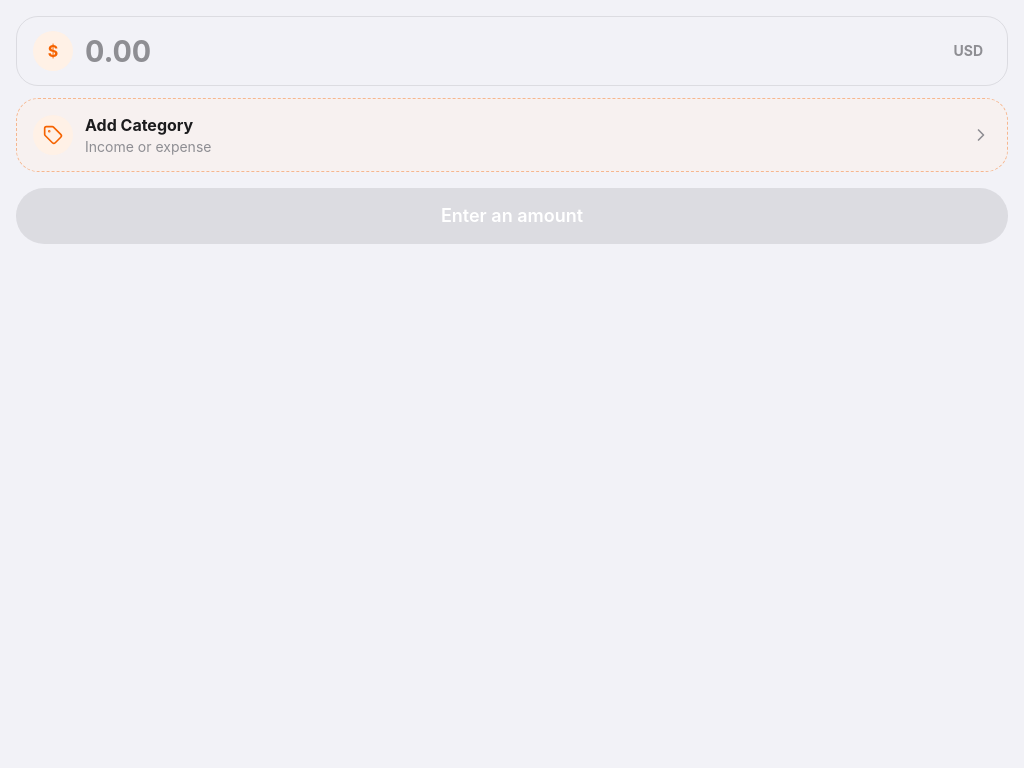
it: AddComposer (add mode) › switches to LBP and shows the USD estimate plus grouped label
The image size is (1024, 768).
Click the button with aria-label "Switch currency": point(968, 51) [946,37,991,65]
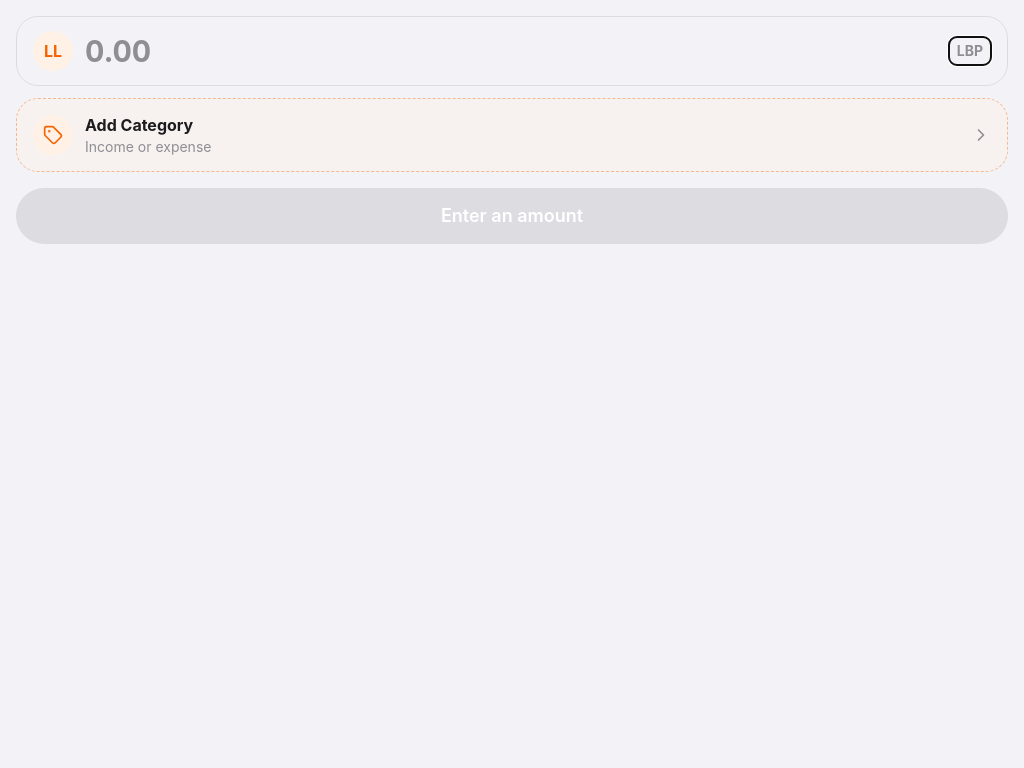
In the field named "Amount": point(511, 51) [85,33,937,69], type "895000"
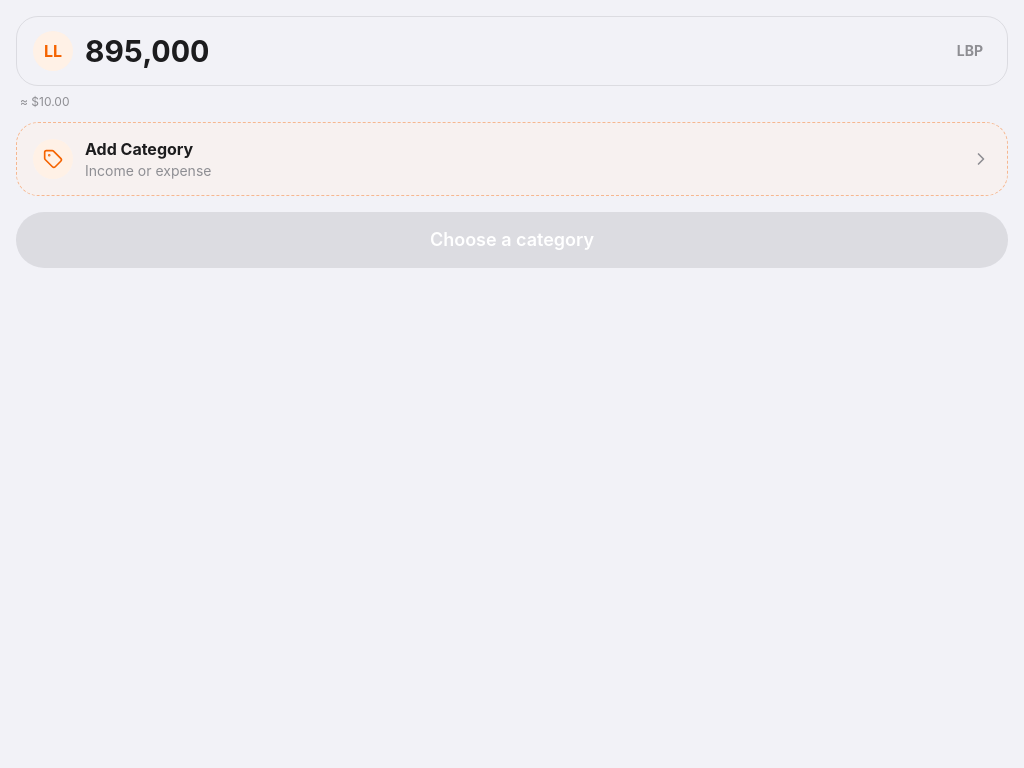
Result: the text "≈ $10.00" is shown at [20,94,70,109]
Click the button "Add Category Income or expense": point(53, 159) [16,122,1008,196]
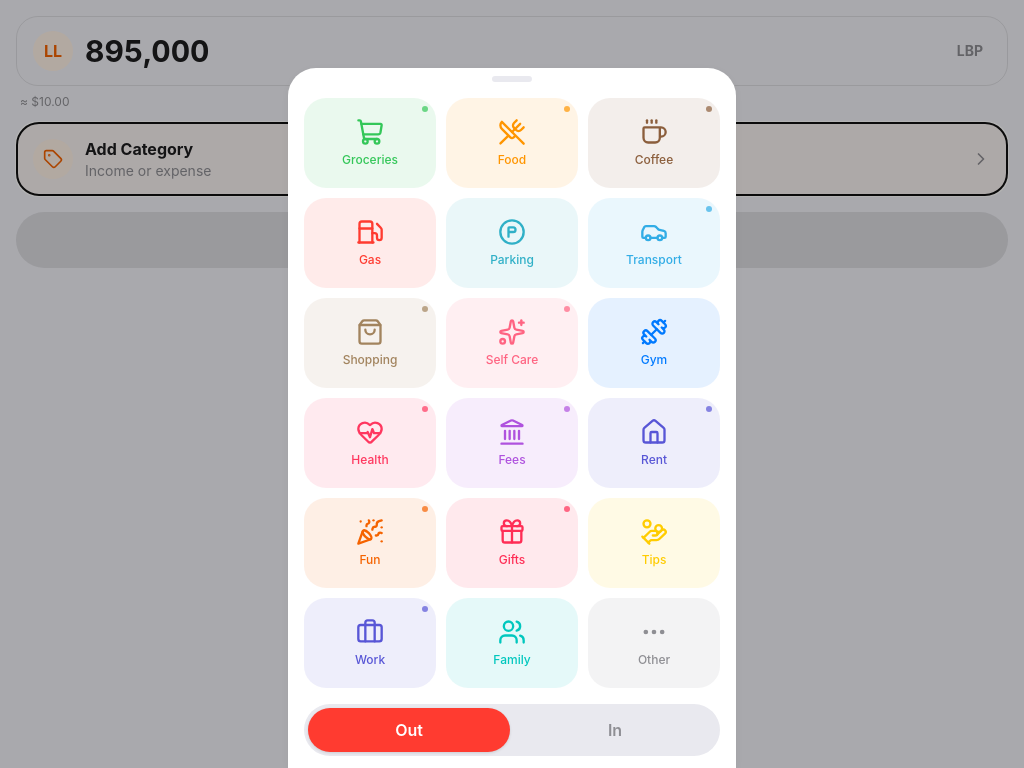
Click the button "Gas": point(370, 243) [304,198,436,288]
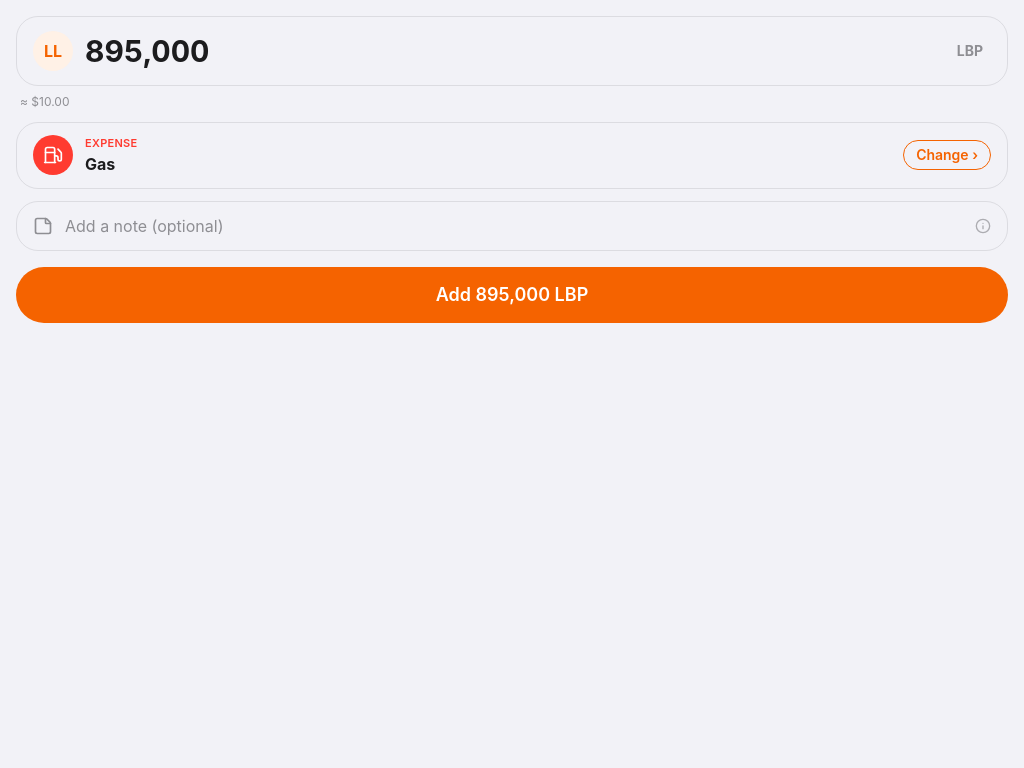
Result: the button "Add 895,000 LBP" is shown at [16,266,1008,322]
